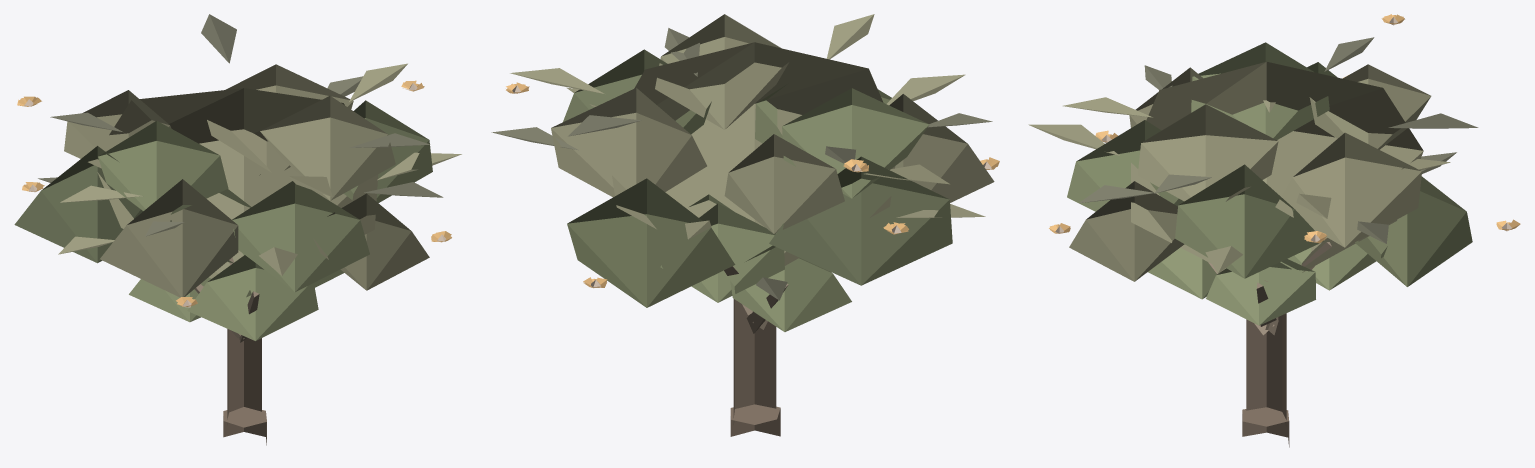
The model's file is shu.fenghuang__winter.glb.
3 renders of one model, left to right at view 1: azimuth 30°, elevation 25°; view 2: azimuth 150°, elevation 25°; view 3: azimuth 270°, elevation 25°, orthographic. The views are drawn at different scales.
Visible parts, largest first — view 1: shu.fenghuang__winter; view 2: shu.fenghuang__winter; view 3: shu.fenghuang__winter.
Boxes of the visible parts, x1,y1,x2,y2 form: shu.fenghuang__winter: [14, 14, 461, 445]; shu.fenghuang__winter: [491, 14, 999, 436]; shu.fenghuang__winter: [1028, 14, 1520, 447].
Bounding box in the file's own units: 14.49 × 12.07 × 14.67.
